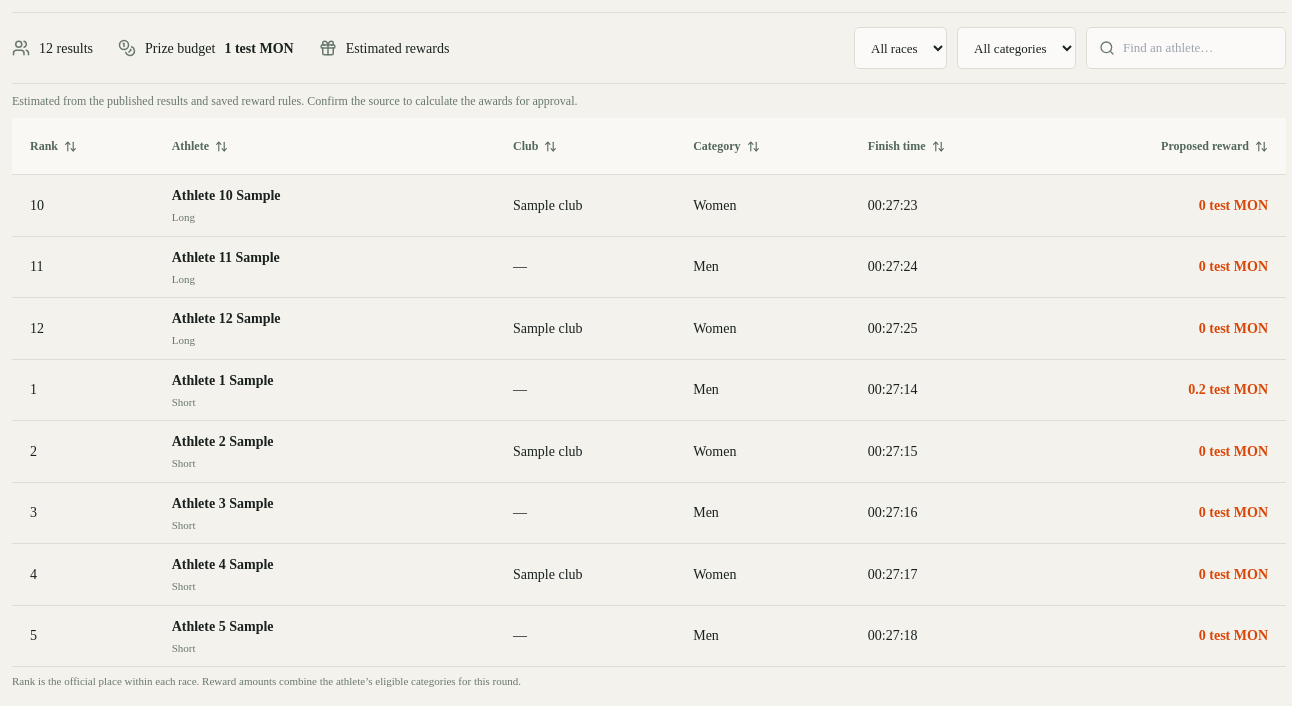
Test case: keeps reward sorting after clearing athlete filters
The image size is (1292, 706).
Click the button "Proposed reward" at (1215,146), box [1161, 128, 1268, 164]
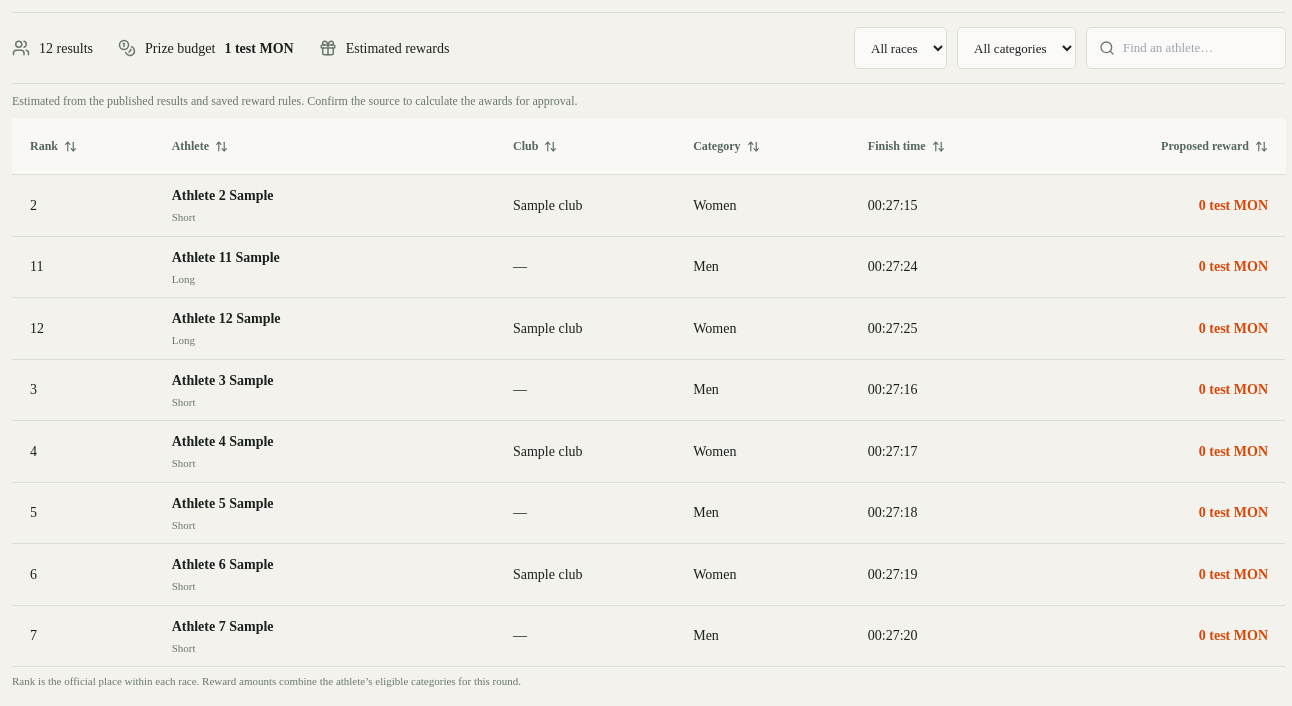
Click the button "Proposed reward" at (1215,146), box [1161, 128, 1268, 164]
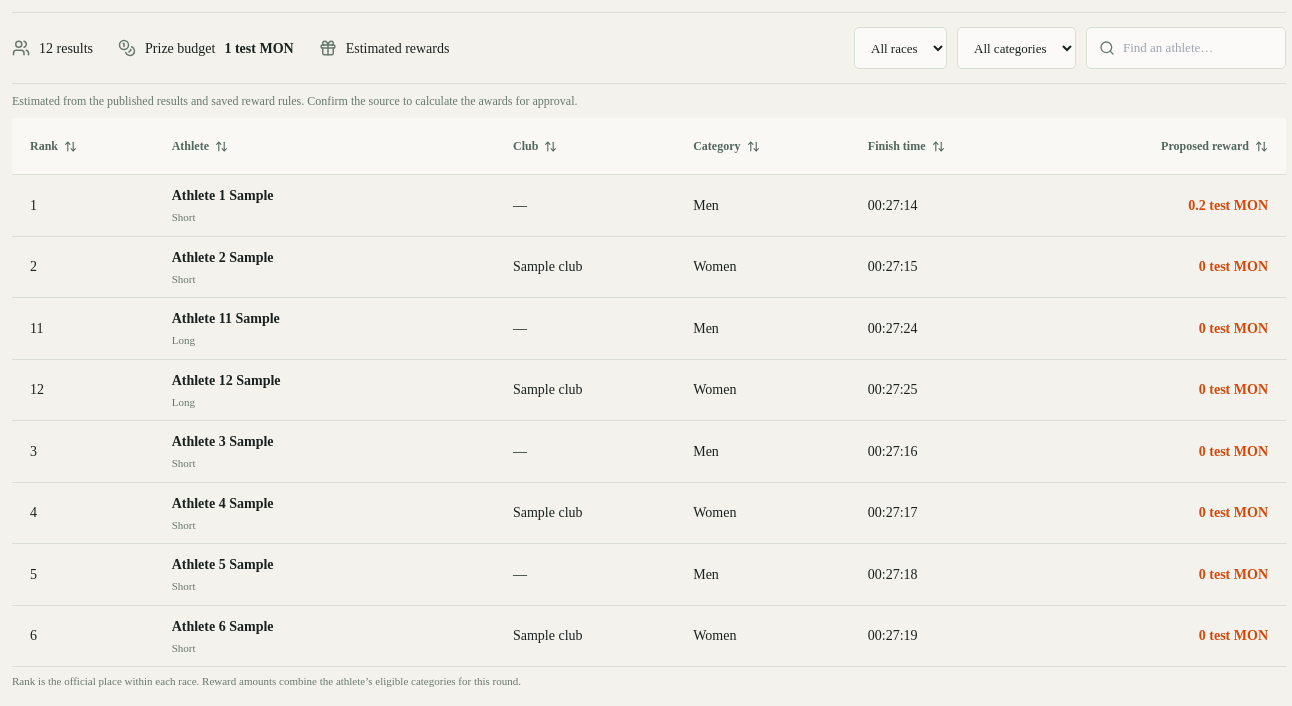
Type "missing" into the field labelled "Find an athlete" at (1198,48), box [1123, 38, 1273, 58]
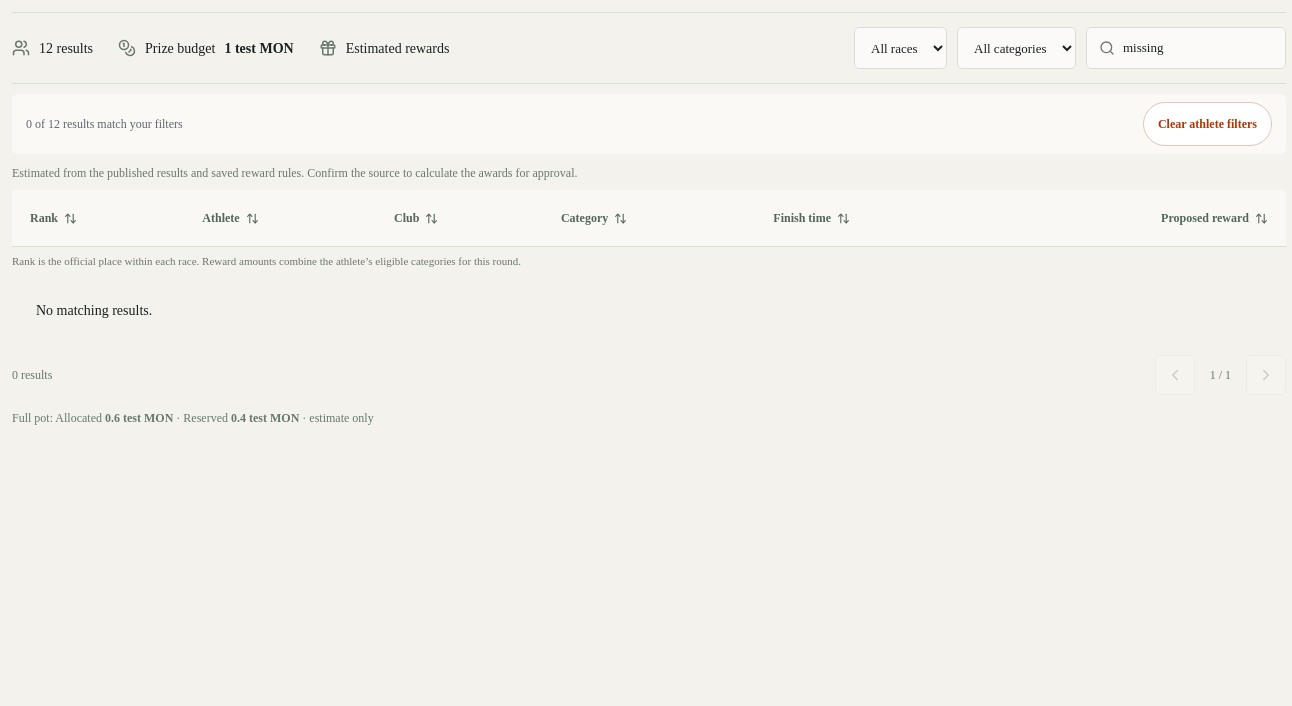
Click the button "Clear athlete filters" at (1207,124), box [1143, 102, 1272, 146]
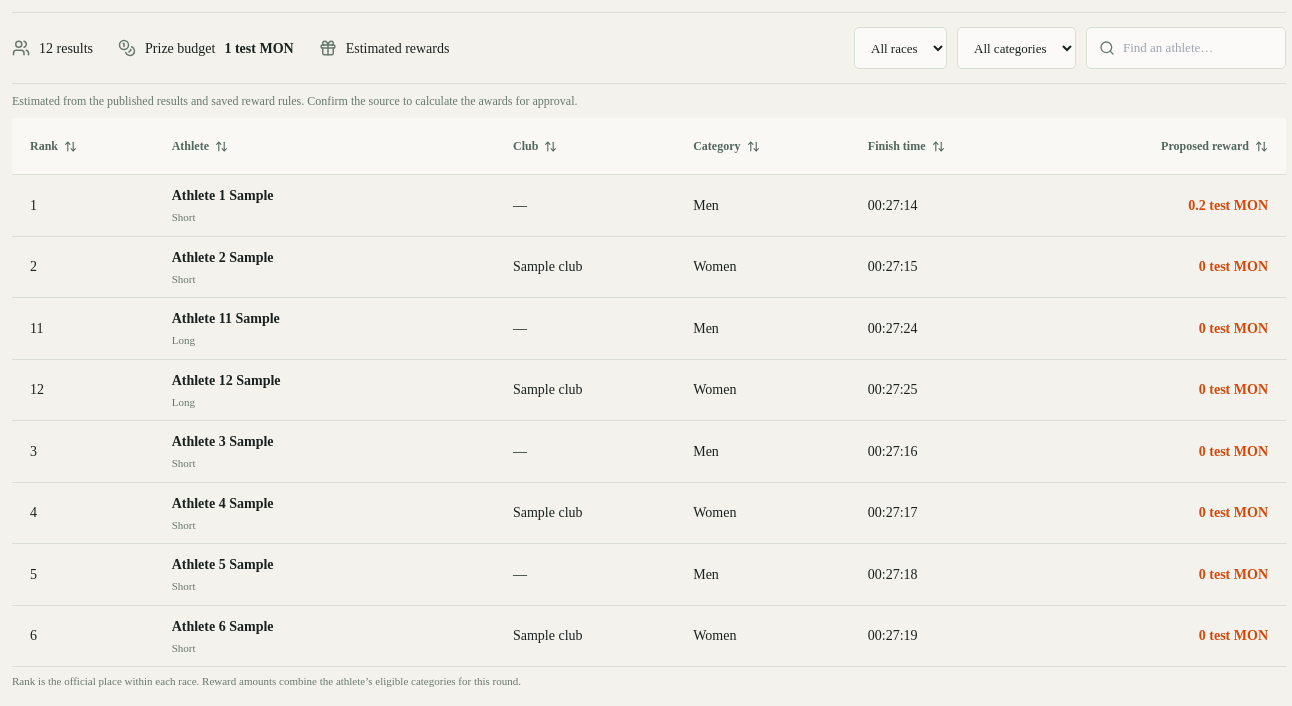
Check: the row "1 Athlete 1 Sample Short — Men 00:27:14 0.2 test MON" is shown, box [12, 174, 1286, 236]
